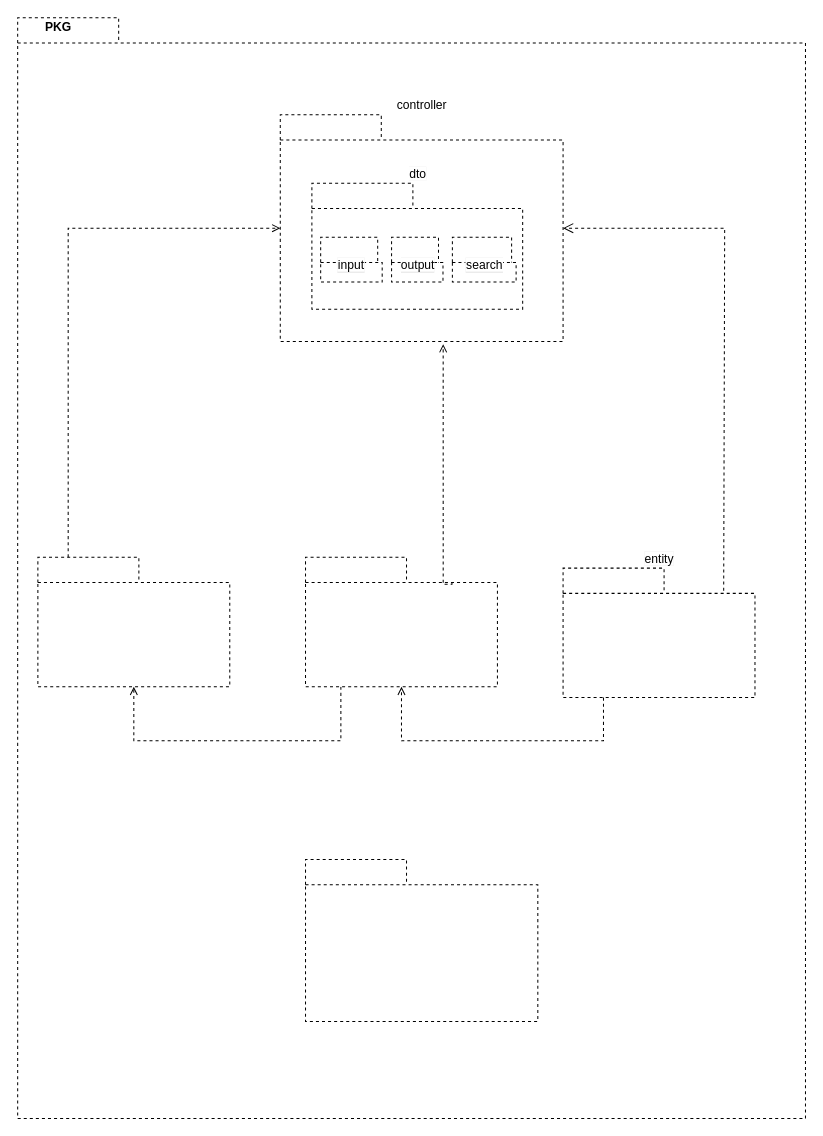
Some shapes in this 823 by 1136 pixel diagram are drawn without their labels. The shapes that lost their labels are listed below. From the top down, each one's centre as x and y in pixels, then its label:
[133,621]: service
[401,621]: repository
[421,939]: configuration
